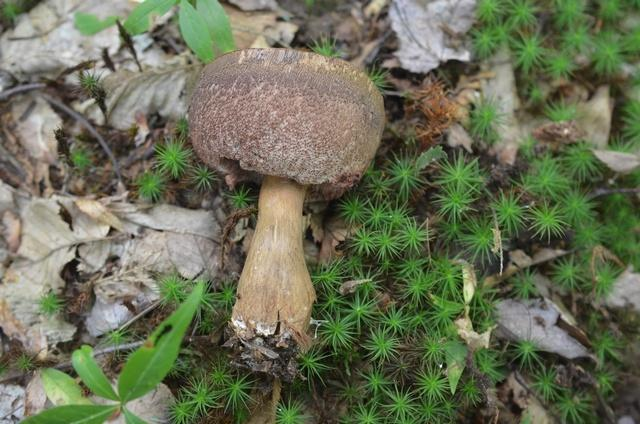Non-edible Mushroom: (185, 46, 386, 347)
